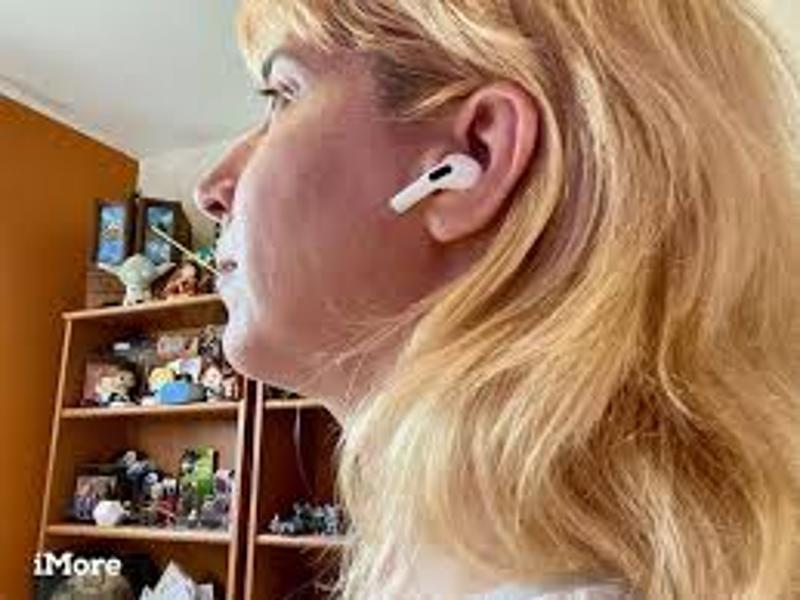headphone: (386, 150, 481, 214)
